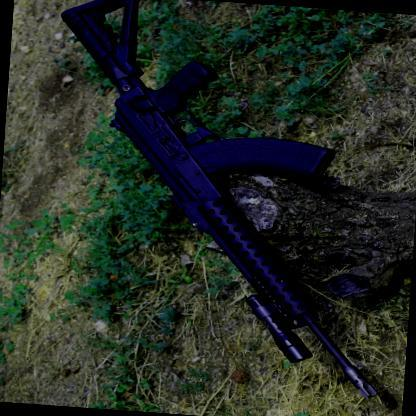rifle: (4, 0, 416, 410)
